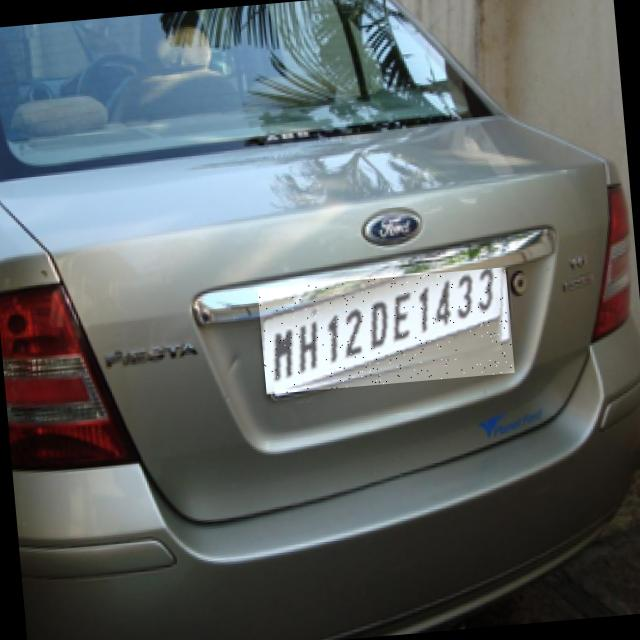Plate: (258, 268, 515, 395)
